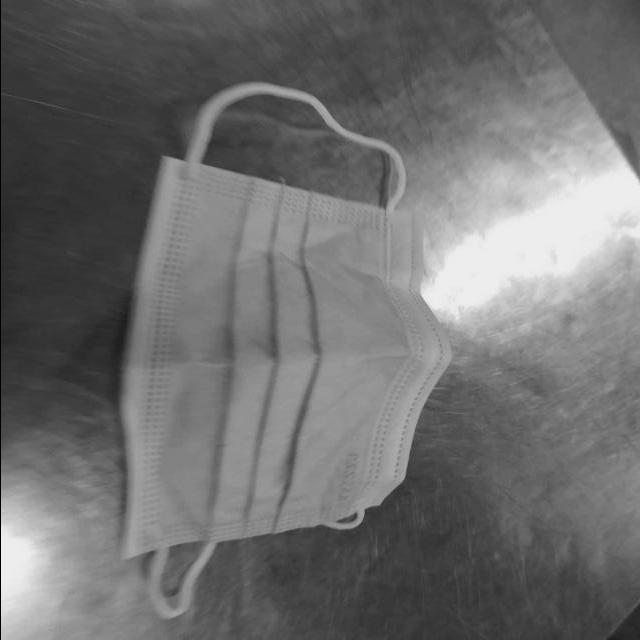General: (115, 80, 453, 617)
